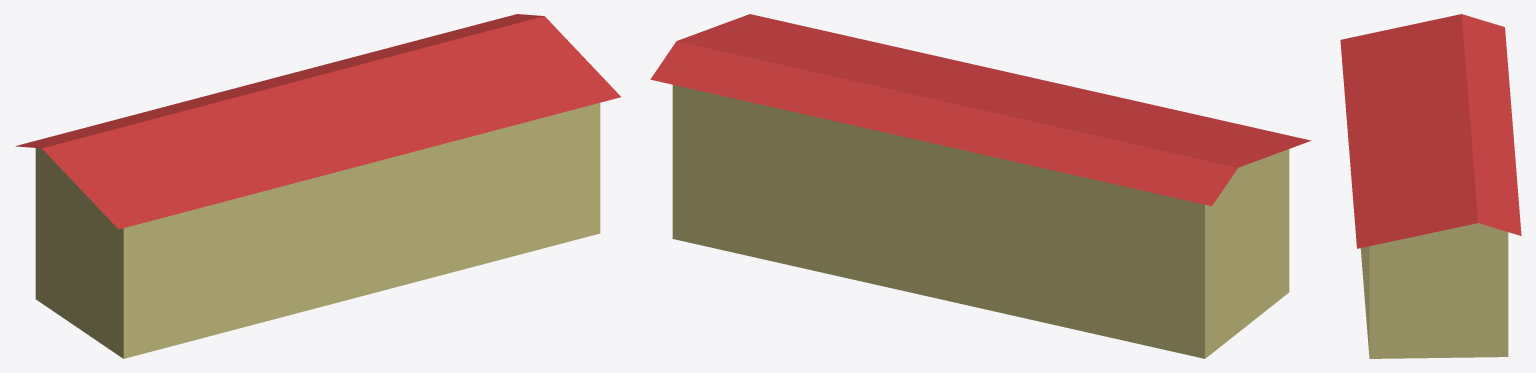
The picture shows the model from 3 angles, left to right: view 1: azimuth 30°, elevation 25°; view 2: azimuth 150°, elevation 25°; view 3: azimuth 270°, elevation 25°; orthographic projection. The views are drawn at different scales.
Bounding box in the file's own units: 19.35 × 7.01 × 5.97.
